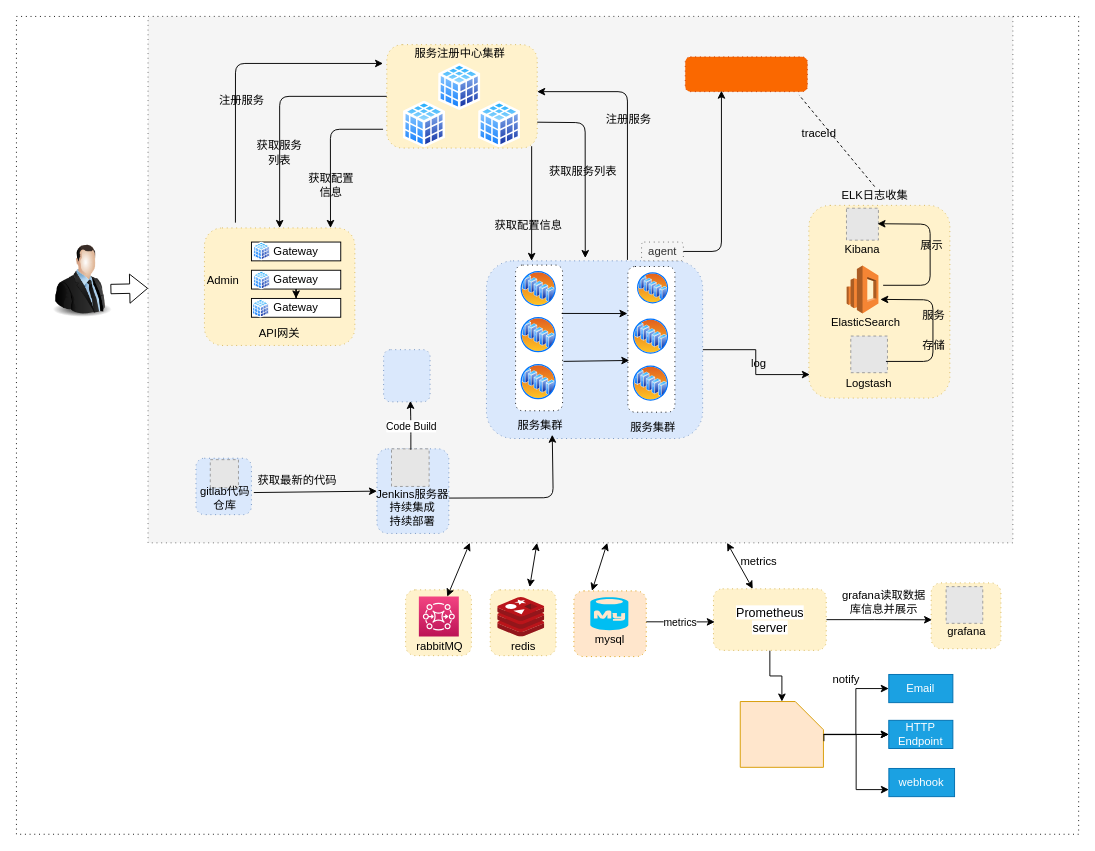
The diagram is 1095 pixels wide and 851 high, and some of its shapes have lost their labels. Grey dashed boxes stand in for pictures. The box of each missing label's shape, as (x1, y1, x2, y2) in pixels:
Alert Manager: (739, 701, 823, 767)
nexus: (383, 349, 430, 402)
Skywalking 调用链监控: (684, 56, 807, 92)
